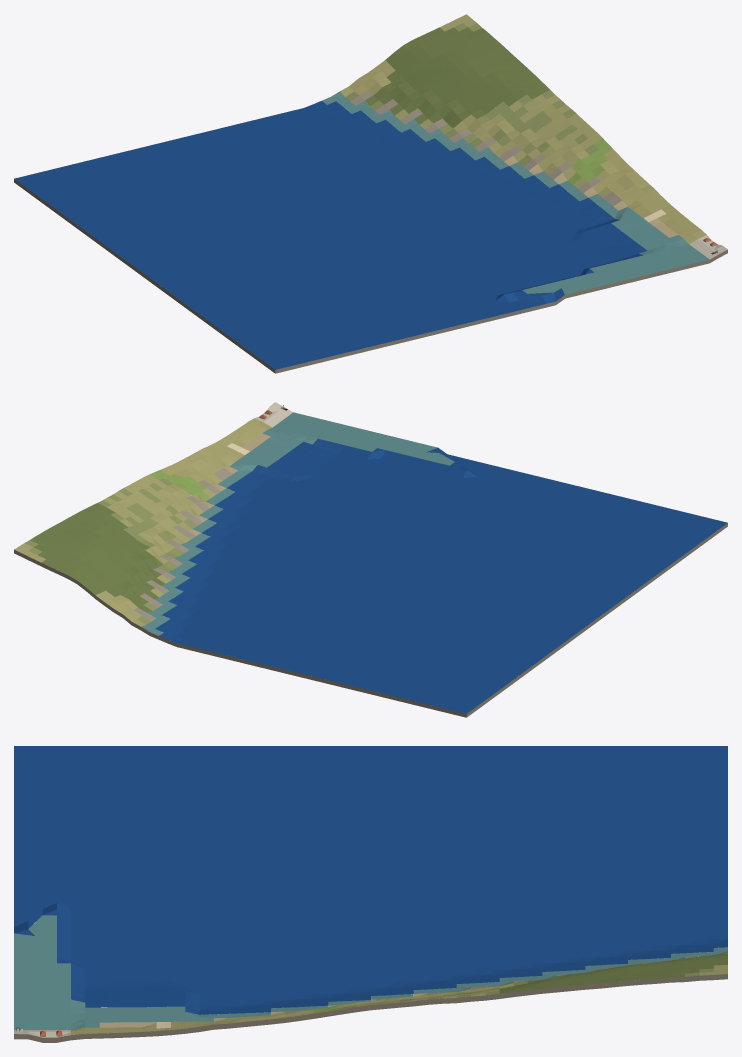
File: parca_-1_+0-uzak.glb
The picture shows the model from 3 angles, top to bottom: view 1: azimuth 30°, elevation 25°; view 2: azimuth 150°, elevation 25°; view 3: azimuth 270°, elevation 25°; orthographic projection. The views are drawn at different scales.
Parts seen in each view (by area): view 1: parca_-1_+0_arazi_uzak; view 2: parca_-1_+0_arazi_uzak; view 3: parca_-1_+0_arazi_uzak.
Part boxes in pixels (left/top/right/bottom): parca_-1_+0_arazi_uzak: left=14, top=14, right=727, bottom=373; parca_-1_+0_arazi_uzak: left=14, top=402, right=727, bottom=717; parca_-1_+0_arazi_uzak: left=14, top=746, right=727, bottom=1042.
Size of the model in its own units: 1000 by 122 by 1000.
